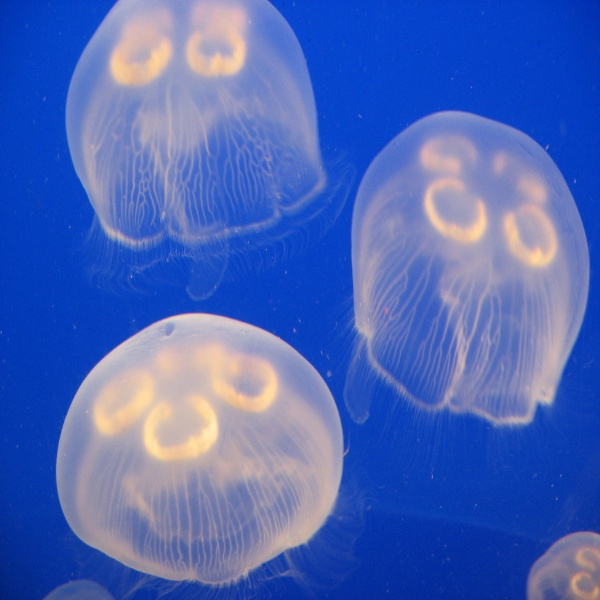Jellyfish: (330, 111, 591, 480), (61, 0, 356, 302), (55, 312, 342, 599), (525, 534, 599, 599)
